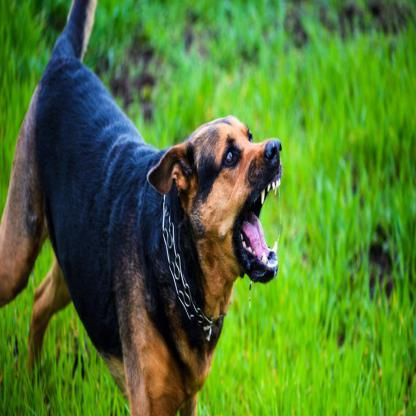dog: (0, 0, 286, 415)
